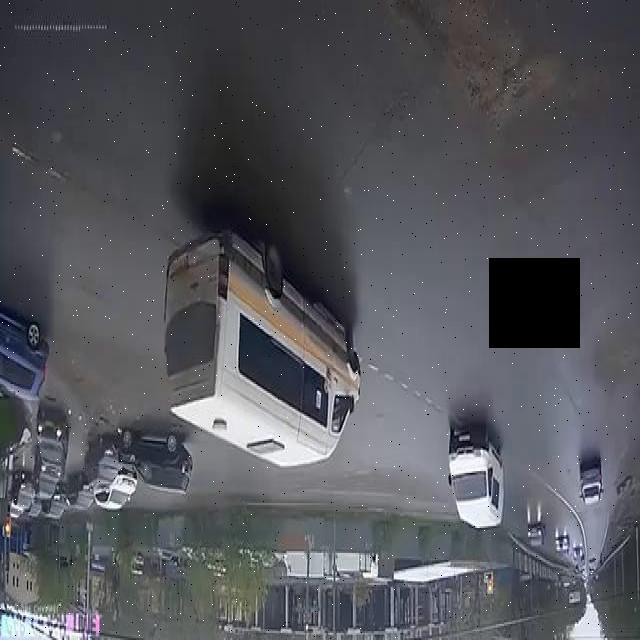moderate: (82, 423, 195, 496)
